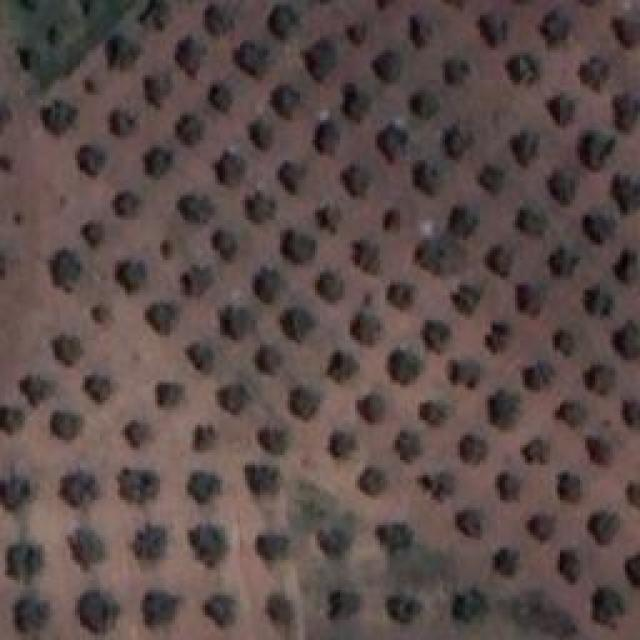Tree: (413, 233, 463, 288), (185, 517, 229, 574), (0, 530, 46, 583), (75, 585, 120, 639), (67, 520, 114, 569), (588, 585, 631, 636), (10, 593, 56, 640), (52, 470, 99, 516), (117, 257, 163, 303), (290, 383, 333, 432), (135, 587, 180, 633), (392, 425, 437, 471), (323, 580, 364, 629), (448, 583, 490, 630), (115, 465, 162, 506), (277, 223, 322, 265), (37, 95, 82, 136), (262, 588, 307, 629), (258, 525, 298, 571), (175, 183, 217, 225), (445, 355, 487, 397), (315, 523, 355, 567), (382, 590, 427, 629), (515, 280, 560, 319), (418, 460, 457, 505), (305, 44, 346, 86), (386, 275, 428, 316), (44, 403, 86, 443), (370, 515, 410, 557), (383, 343, 423, 385), (240, 468, 284, 506), (215, 147, 252, 192), (520, 355, 560, 396), (275, 300, 318, 338), (590, 500, 628, 543), (503, 47, 539, 92), (245, 118, 285, 158), (10, 45, 50, 85), (248, 260, 288, 300), (578, 363, 618, 403), (183, 468, 224, 507), (123, 413, 161, 455), (180, 335, 219, 375), (583, 283, 622, 323), (315, 268, 352, 310), (140, 523, 175, 567), (313, 200, 351, 240), (323, 348, 360, 389), (455, 508, 492, 549), (0, 478, 36, 520), (185, 418, 221, 460), (558, 545, 594, 587), (143, 295, 179, 336), (493, 468, 528, 510), (108, 28, 146, 66), (475, 10, 515, 46), (488, 390, 524, 430), (350, 308, 385, 349), (177, 33, 210, 76), (200, 593, 238, 630), (183, 263, 220, 301), (378, 123, 415, 161), (350, 238, 387, 276), (590, 208, 629, 244), (268, 85, 308, 120), (343, 86, 378, 126), (450, 207, 492, 240), (540, 8, 577, 45), (403, 8, 440, 45), (243, 185, 280, 222), (547, 90, 581, 130), (582, 134, 616, 174), (235, 40, 272, 76), (415, 158, 451, 195), (210, 223, 244, 262), (218, 304, 257, 338), (585, 433, 619, 472), (47, 250, 80, 290), (50, 333, 83, 373), (453, 428, 489, 464), (150, 373, 185, 410), (105, 105, 140, 142), (510, 205, 547, 240), (78, 372, 116, 406), (215, 378, 253, 412), (310, 122, 348, 156), (490, 545, 528, 579), (515, 125, 548, 164), (326, 425, 358, 465), (578, 57, 614, 92), (375, 50, 411, 85), (353, 463, 389, 498), (450, 285, 485, 321), (488, 240, 523, 276), (518, 433, 553, 469), (558, 395, 592, 432), (421, 395, 454, 433), (341, 160, 374, 197), (553, 168, 584, 207), (0, 401, 28, 444), (610, 90, 640, 130), (203, 80, 237, 115), (258, 425, 292, 460), (553, 468, 587, 503), (20, 375, 56, 408), (277, 155, 310, 191), (250, 335, 286, 368), (483, 315, 511, 357), (75, 215, 105, 254), (110, 190, 144, 224), (380, 200, 411, 237), (553, 240, 580, 282), (147, 147, 181, 180), (410, 87, 443, 121), (615, 242, 639, 288), (265, 2, 299, 34), (525, 512, 559, 544), (360, 388, 391, 423), (173, 113, 207, 144), (140, 0, 175, 30), (443, 54, 478, 84), (617, 317, 640, 362), (478, 162, 508, 196), (45, 17, 75, 51), (345, 18, 378, 48), (612, 180, 640, 215), (424, 308, 452, 343), (145, 73, 177, 103), (78, 140, 106, 171), (550, 326, 581, 354), (203, 0, 232, 29), (617, 12, 640, 47), (445, 125, 472, 154), (80, 70, 105, 100), (625, 478, 640, 518), (627, 544, 640, 587), (623, 396, 640, 428), (90, 303, 112, 325), (0, 98, 10, 139), (0, 154, 12, 184)
